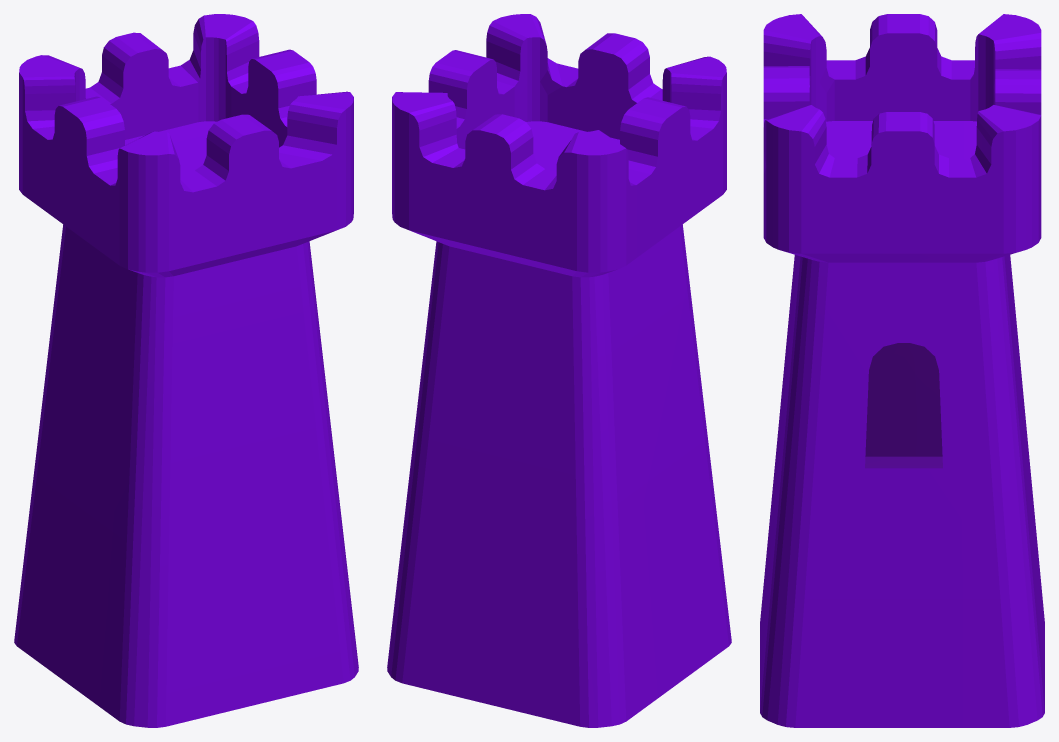
The model's file is Tower_5.fbx.
The picture shows the model from 3 angles, left to right: view 1: azimuth 30°, elevation 25°; view 2: azimuth 150°, elevation 25°; view 3: azimuth 270°, elevation 25°; orthographic projection. The views are drawn at different scales.
Parts seen in each view (by area): view 1: Cube.141; view 2: Cube.141; view 3: Cube.141.
Part boxes in pixels (box(x1,y1,x2,y2)): Cube.141: box(14, 14, 358, 727); Cube.141: box(387, 14, 731, 727); Cube.141: box(760, 14, 1044, 727).
Bounding box in the file's own units: 588 × 1354 × 588.
